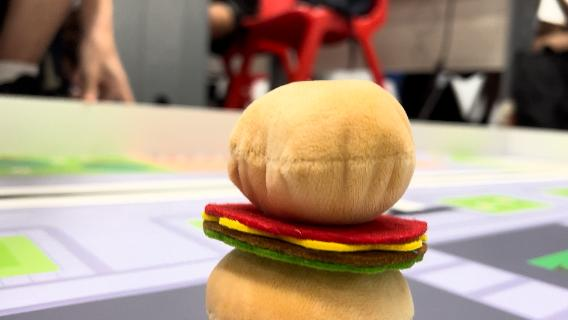burger: (200, 78, 428, 320)
